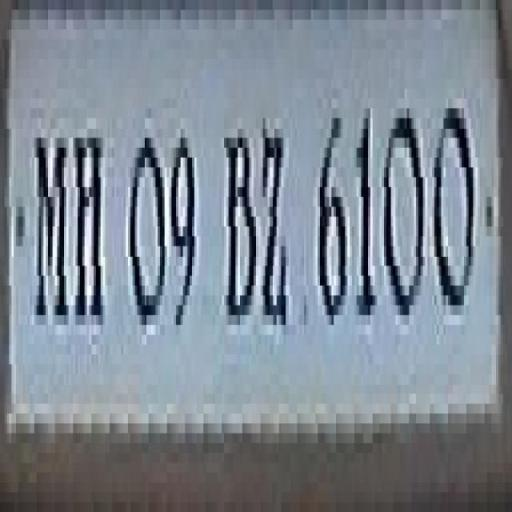number plate: (22, 0, 512, 453)
